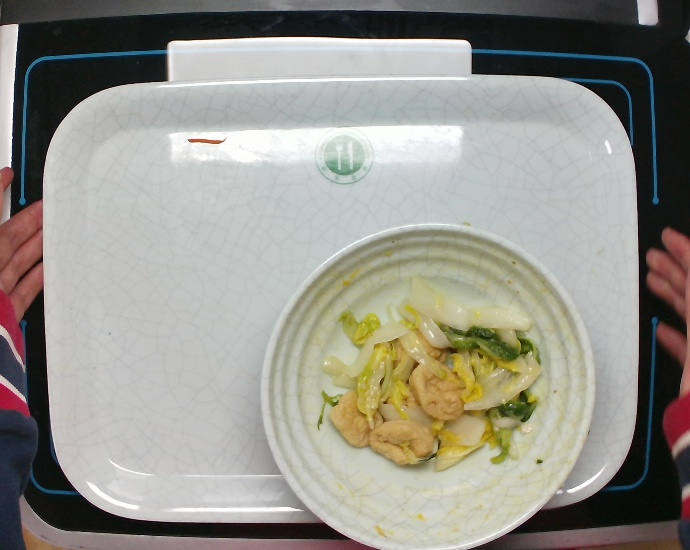JYsf-Da_Tang_Wan: (248, 216, 601, 550)
